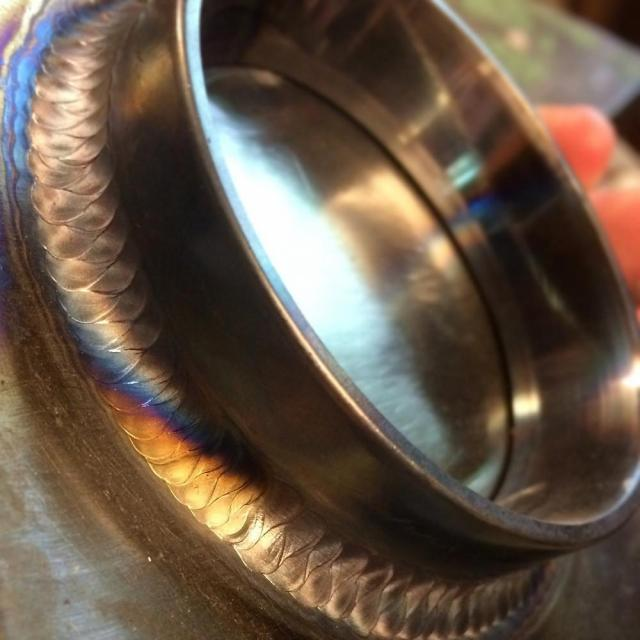Good Welding: (5, 7, 194, 469), (140, 420, 500, 640)
